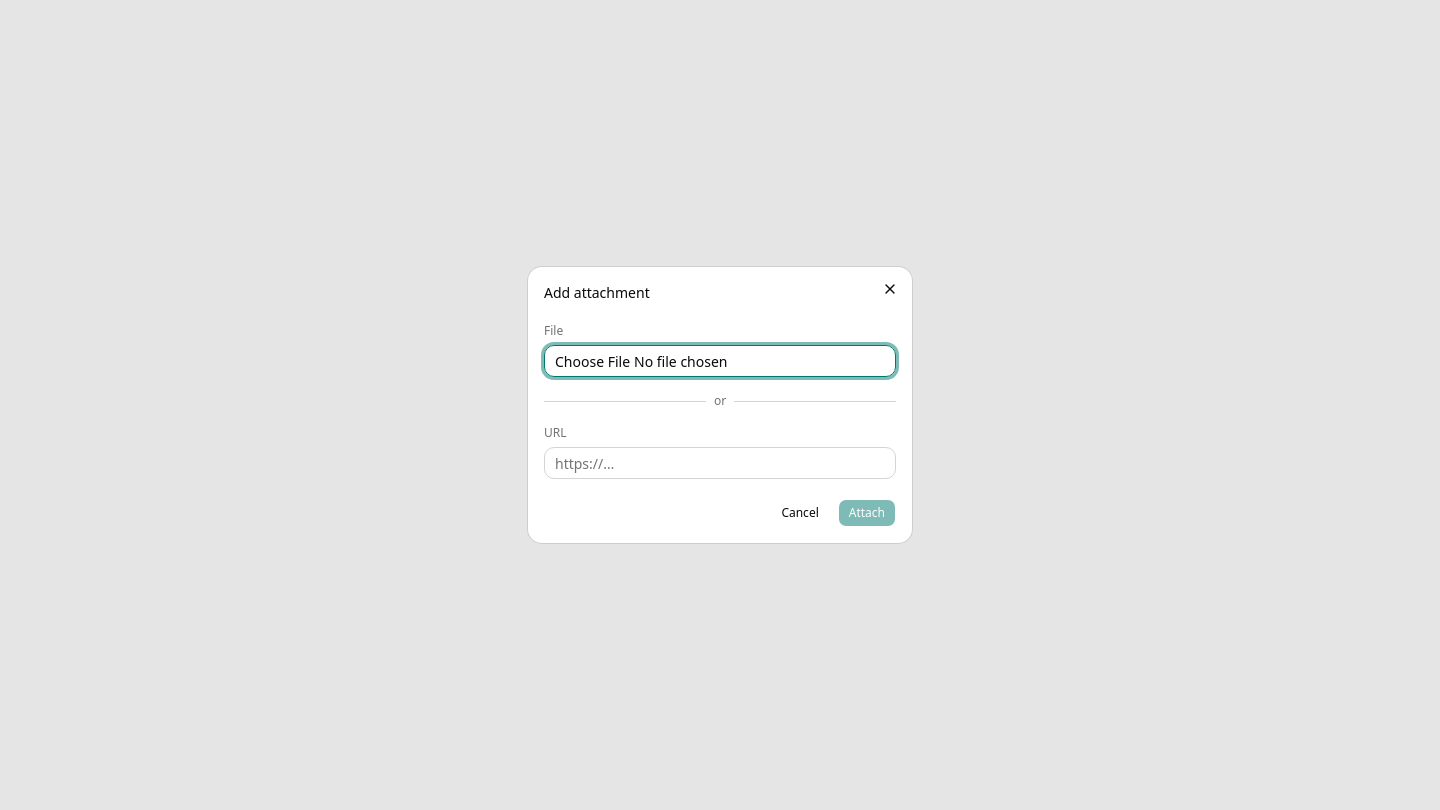
Test: TaskAttachmentModal › enables Attach and only shows display text once a URL is entered
Type "https://example.com" into the field with placeholder "https://…" at (720, 463), box [544,447,896,479]
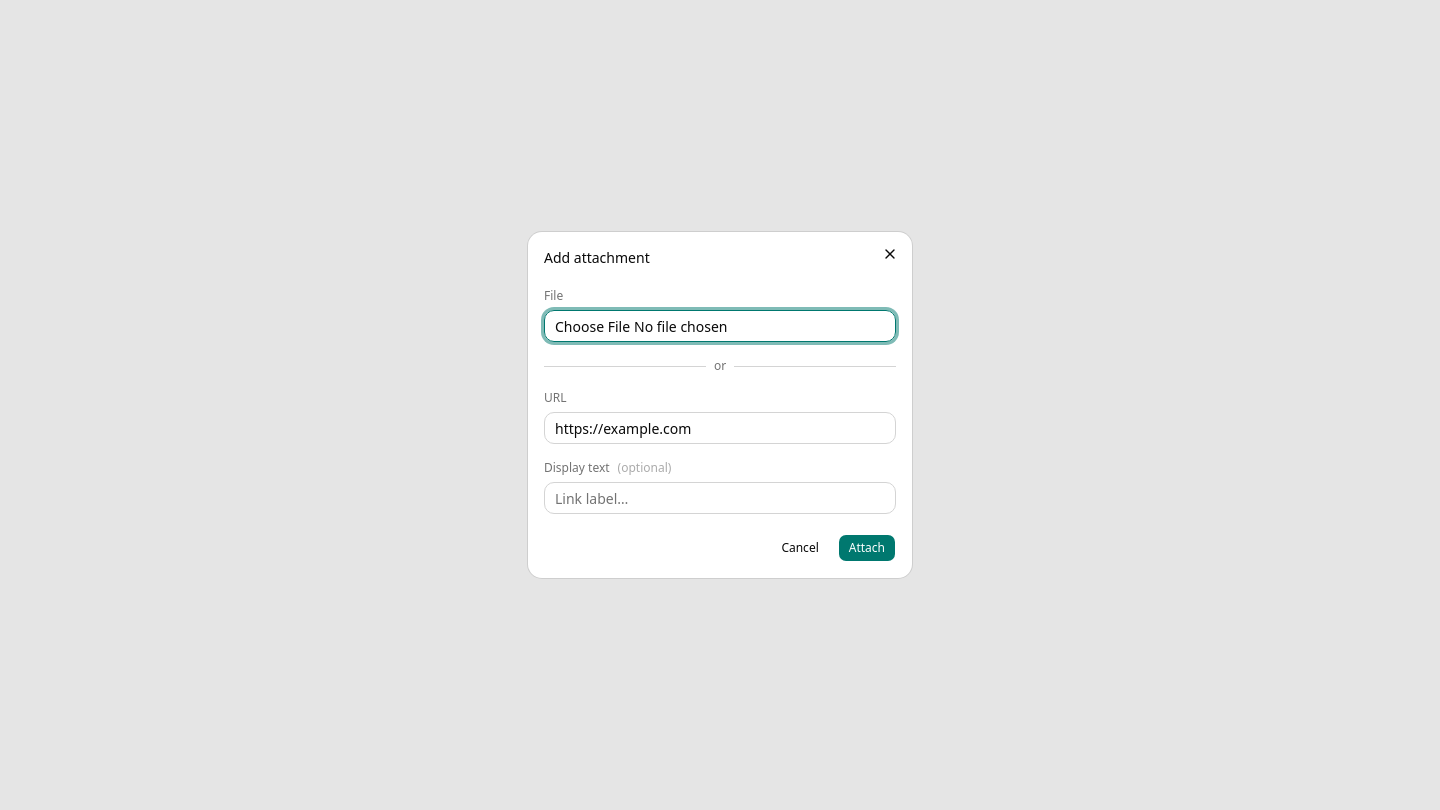
expect the button "Attach" is enabled: met, box [838,534,896,562]
expect the field with placeholder "Link label…" is shown: met, box [544,482,896,514]
